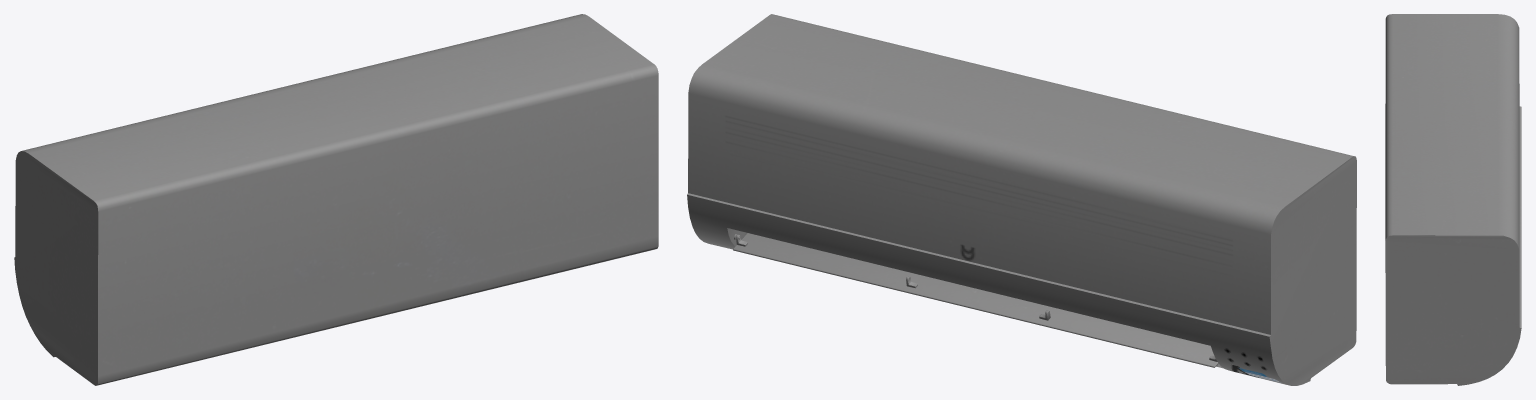
Rendered from Prop_AirConditioning.fbx.
3 views of the same model, side by side, from view 1: azimuth 30°, elevation 25°; view 2: azimuth 150°, elevation 25°; view 3: azimuth 270°, elevation 25° (orthographic). The views are drawn at different scales.
Visible parts, largest first — view 1: Prop_AirConditioning; view 2: Prop_AirConditioning; view 3: Prop_AirConditioning.
Boxes of the visible parts, left/top/right/bottom form: Prop_AirConditioning: left=14, top=14, right=658, bottom=385; Prop_AirConditioning: left=687, top=14, right=1356, bottom=385; Prop_AirConditioning: left=1385, top=14, right=1521, bottom=385.
Bounding box in the file's own units: 58.83 × 18.64 × 15.28.
